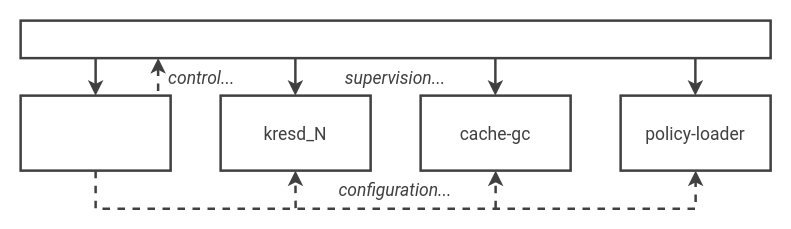
Image size: 791x229. Some labels were removed from this diagram. The centre of each missing label's shape, as x and y in pixels:
manager: point 95,132
supervisord: point 395,39
